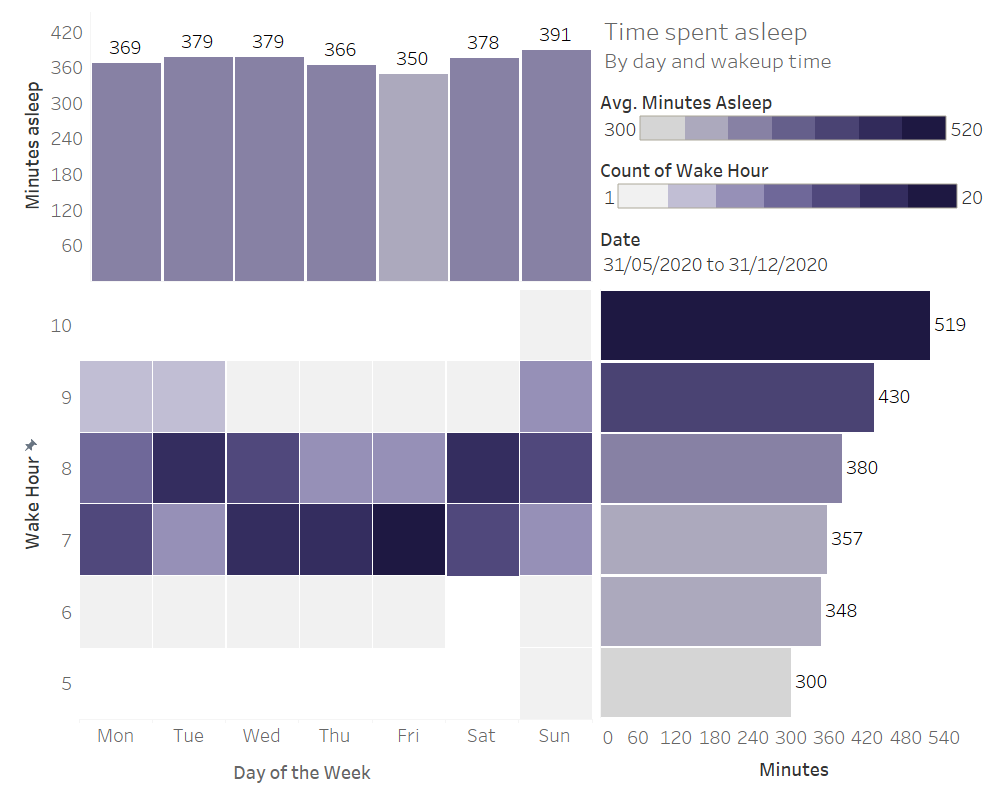

What the dashboard file says about the page in this screenshot:
{"tool":"tableau","page":{"name":"Waketime Dashboard","canvas":[1000,800],"ordinal":0},"visuals":[{"type":"worksheet","title":"Asleep by Day","mark":"Bar","rows":["minutesAsleep"],"cols":["dayOfWeek"],"box":[8,8,588,277]},{"type":"text","box":[596,8,396.1,73]},{"type":"legend","title":"Asleep by wake hour","param":"[federated.1r5qa1g0v1m78x16bkwcn1l16mqm].[avg:minutesAsleep:qk]","box":[596,81,396.1,68]},{"type":"legend","title":"Wake up time heatmap","param":"[federated.1r5qa1g0v1m78x16bkwcn1l16mqm].[cnt:wake_hour:qk]","box":[596,149,396.1,72]},{"type":"filter","title":"Wake up time heatmap","param":"[federated.1r5qa1g0v1m78x16bkwcn1l16mqm].[none:date:qk]","box":[596,221,396.1,64]},{"type":"worksheet","title":"Wake up time heatmap","mark":"Square","rows":["wake_hour"],"cols":["dayOfWeek"],"box":[8,285,588,467]},{"type":"worksheet","title":"Asleep by wake hour","mark":"Bar","rows":["wake_hour"],"cols":["minutesAsleep"],"box":[596,285,396.1,507]},{"type":"text","box":[8,752,588,40]}]}

Visuals, with their boxes in screenshot pixels (x1, y1, x2, y2), scaled from the page's 1000x800 canvas onto the 1000x800 screenshot:
"Asleep by Day" worksheet (Bar marks): <region>8, 8, 596, 285</region>
text: <region>596, 8, 992, 81</region>
"Asleep by wake hour" legend: <region>596, 81, 992, 149</region>
"Wake up time heatmap" legend: <region>596, 149, 992, 221</region>
"Wake up time heatmap" filter: <region>596, 221, 992, 285</region>
"Wake up time heatmap" worksheet (Square marks): <region>8, 285, 596, 752</region>
"Asleep by wake hour" worksheet (Bar marks): <region>596, 285, 992, 792</region>
text: <region>8, 752, 596, 792</region>
